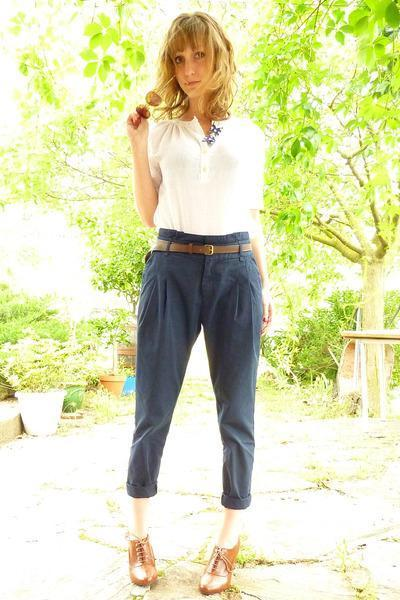pants: (126, 252, 268, 509)
shirt: (156, 113, 271, 239)
shoe: (124, 540, 241, 599)
